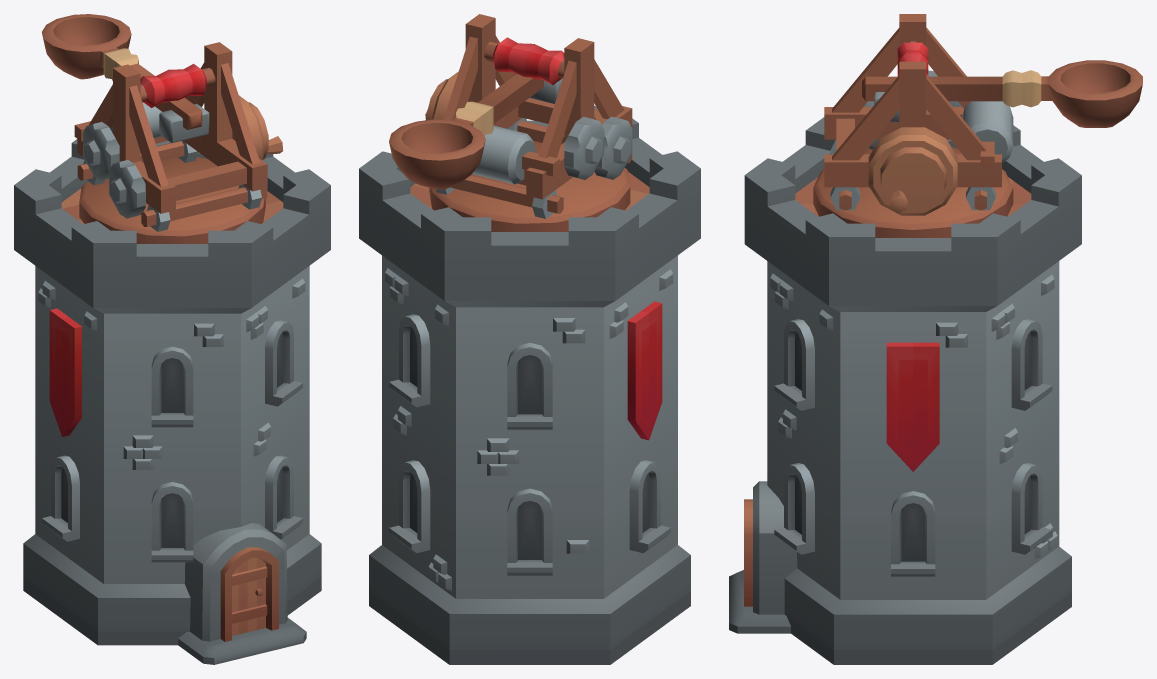
File: tower-c-red.glb
3 renders of one model, left to right at view 1: azimuth 30°, elevation 25°; view 2: azimuth 150°, elevation 25°; view 3: azimuth 270°, elevation 25°, orthographic. The views are drawn at different scales.
Parts seen in each view (by area): view 1: building_tower_catapult_red; view 2: building_tower_catapult_red; view 3: building_tower_catapult_red.
Boxes of the visible parts, box(x1,y1,x2,y2) form: building_tower_catapult_red: box(14, 14, 330, 664); building_tower_catapult_red: box(359, 14, 700, 664); building_tower_catapult_red: box(729, 14, 1142, 664).
Size of the model in its own units: 0.9299 by 1.96 by 1.3.
1 material, 1 textured.
